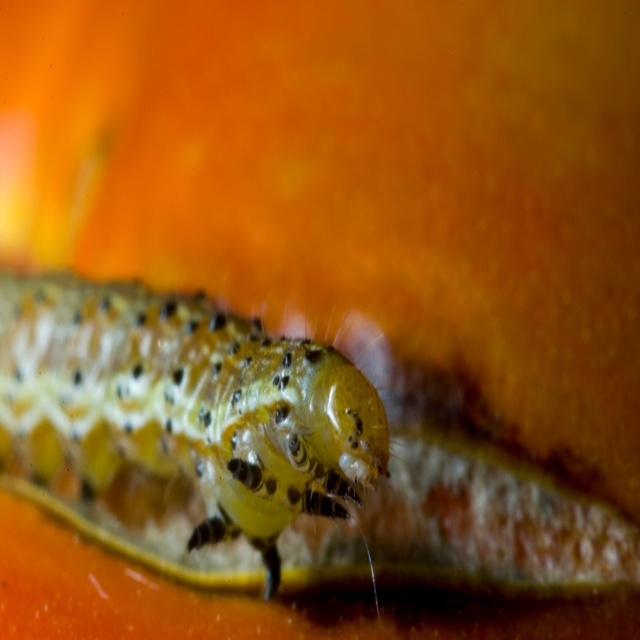Caterpillar: (6, 245, 411, 619)
